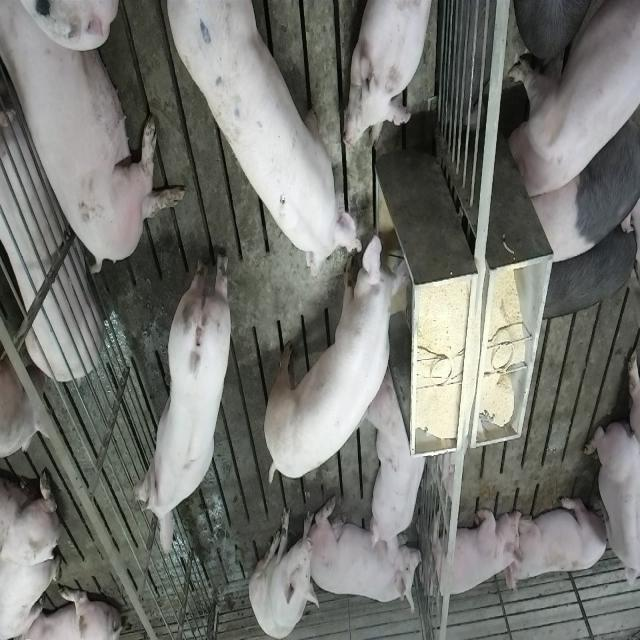Lateral_lying: (3, 0, 186, 273), (0, 88, 103, 382)
Sitting: (250, 503, 318, 638)
Standing: (163, 5, 365, 283), (262, 223, 408, 480), (133, 243, 234, 555), (505, 1, 638, 204), (526, 90, 638, 268), (538, 221, 632, 323)
Sternal_lying: (347, 0, 437, 151), (312, 500, 420, 614), (370, 368, 430, 554), (426, 501, 524, 603), (584, 418, 638, 598), (510, 491, 610, 588)
